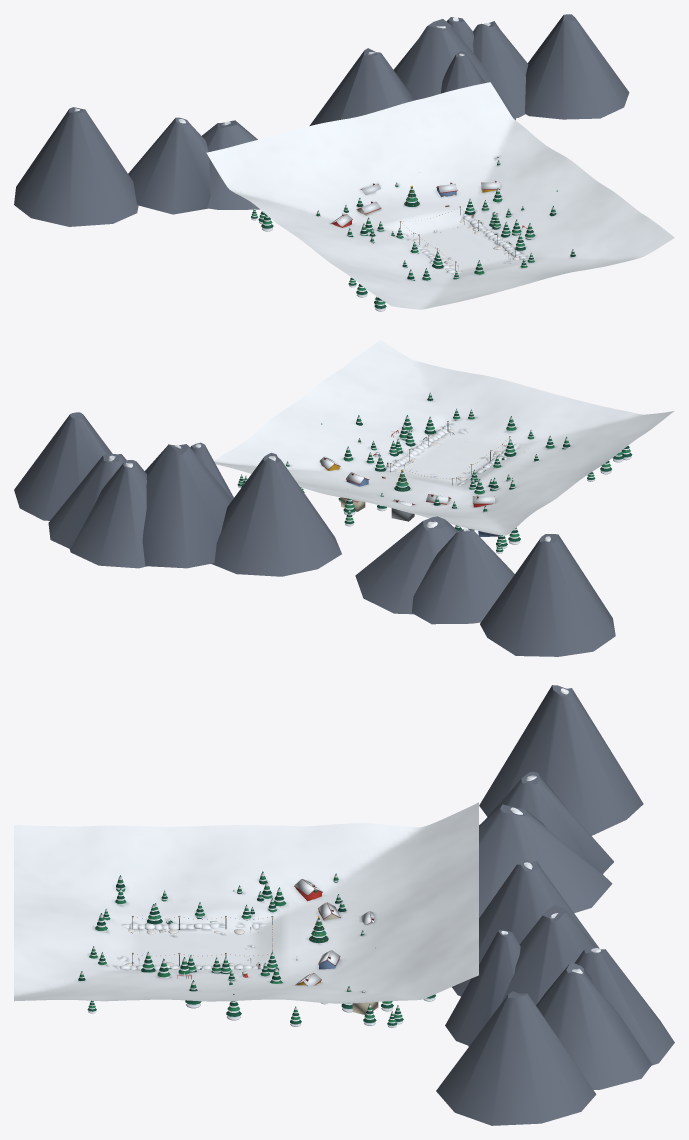
The model's file is map_park.glb.
3 renders of one model, top to bottom at view 1: azimuth 30°, elevation 25°; view 2: azimuth 150°, elevation 25°; view 3: azimuth 270°, elevation 25°, orthographic. The views are drawn at different scales.
Parts seen in each view (by area): view 1: env; view 2: env; view 3: env.
Boxes of the visible parts, x1,y1,x2,y2 form: env: (14,14,674,311); env: (14,340,674,656); env: (14,685,674,1125).
Size of the model in its own units: 163 by 25.18 by 128.
Materials: 2 (2 with a texture image).
